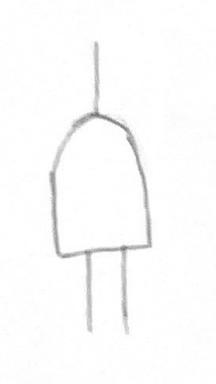AND: (27, 93, 178, 274)
